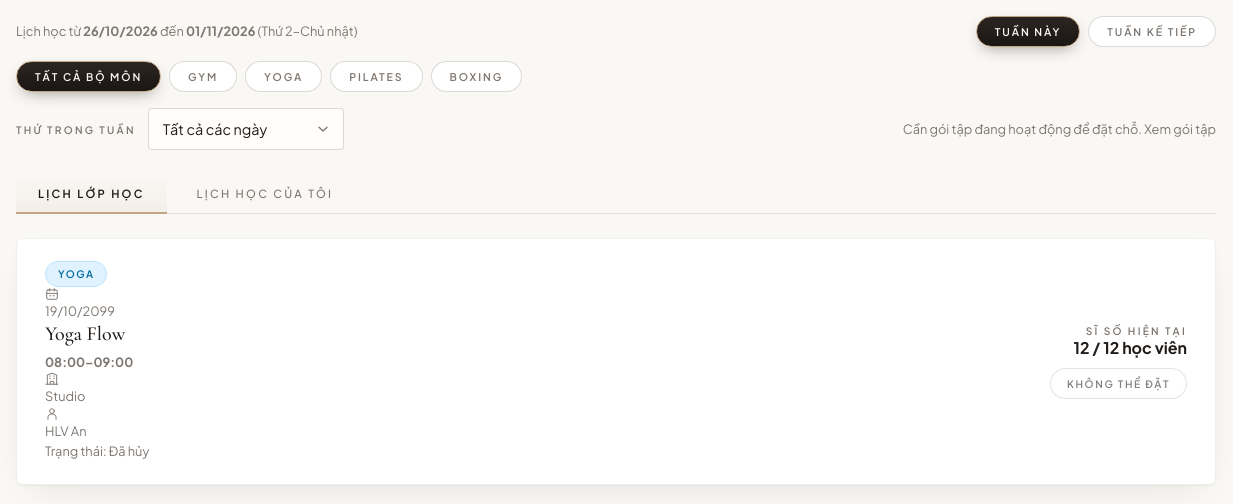
Test: MemberClassesPage › disables booking for cancelled sessions and shows empty my-schedule when nothing booked
The width and height of the screenshot is (1233, 504).
Click the tab "Lịch học của tôi" at (265, 194), box [175,174,355,214]
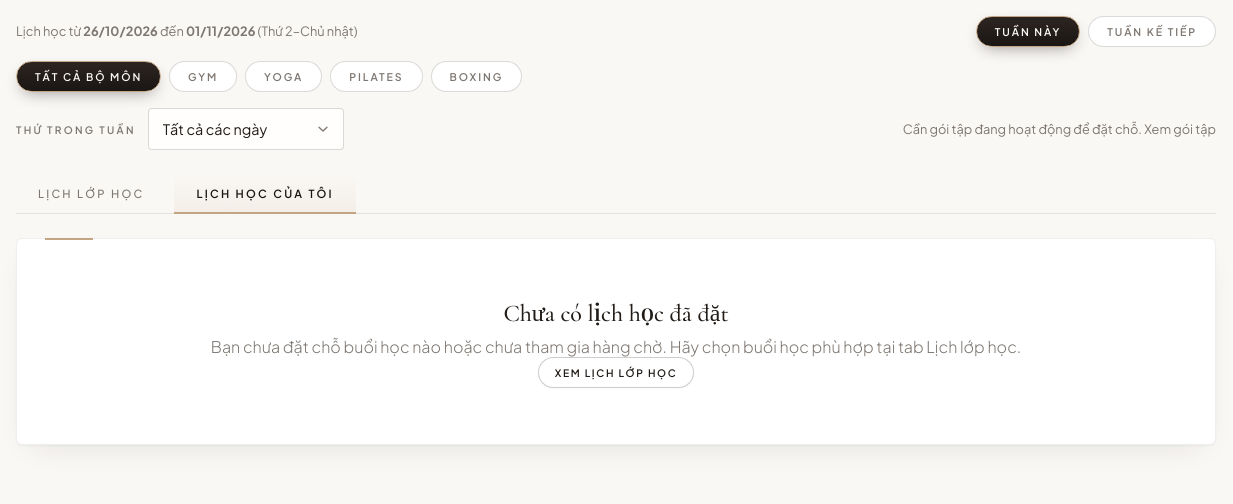
Expected: the text "Chưa có lịch học đã đặt" is shown, [503,299,729,328]
